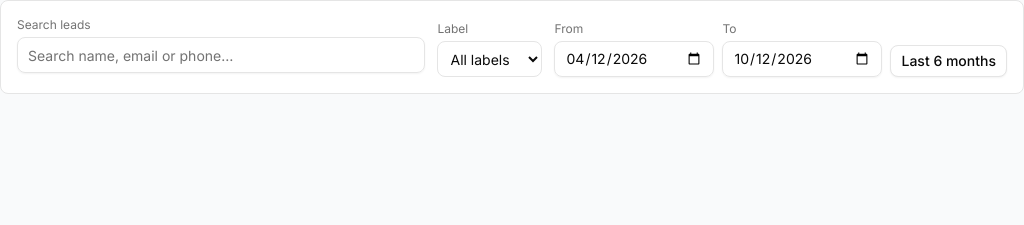
InboxToolbar › shows an inline error and keeps previous results when from is after to
The image size is (1024, 225).
In the date field labelled "From": (634, 59) [554,41,714,77], type "2026-11-01"
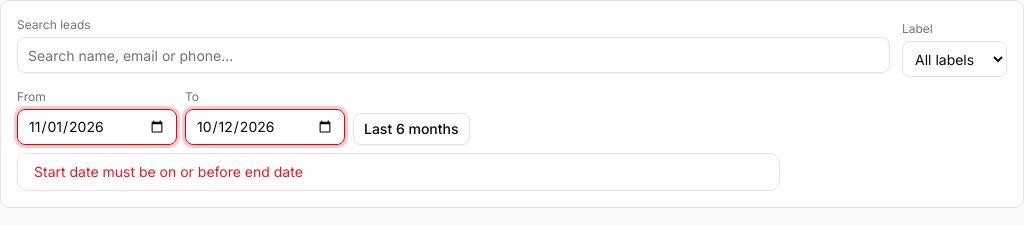
Result: the message reads "Start date must be on or before end date" at [34,163,303,180]
